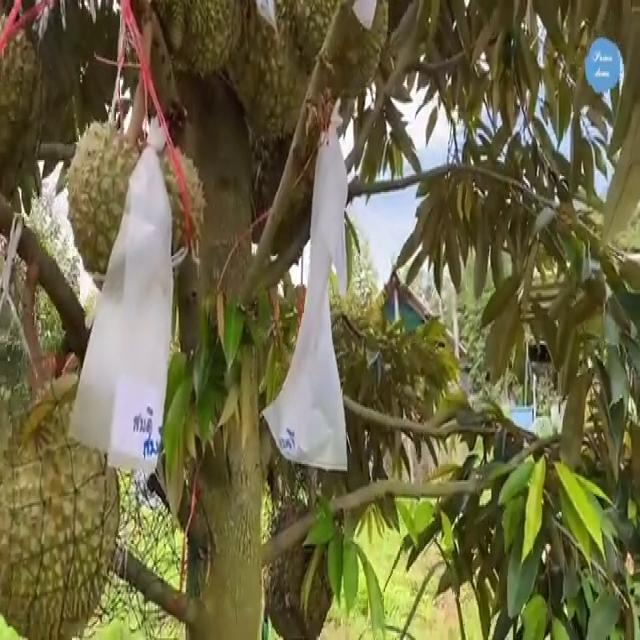durian: (2, 375, 118, 638), (63, 117, 204, 301), (217, 1, 319, 147), (254, 484, 340, 638), (274, 0, 394, 103), (144, 0, 243, 90), (3, 16, 48, 201)
